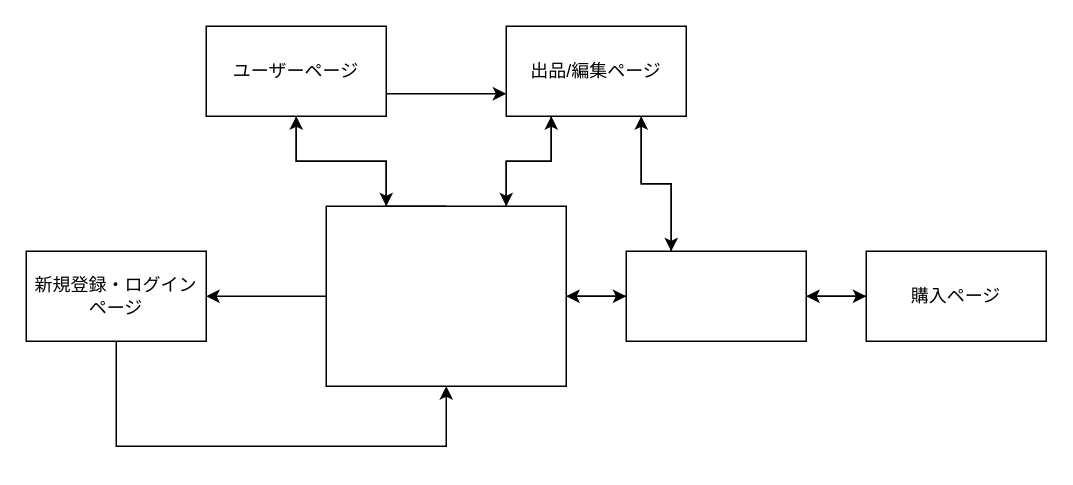
Image size: 1073x485. Some labels were removed from this diagram. Each missing label, with the centre of its shape:
TOPページ: [445,295]
商品ページ: [715,295]
